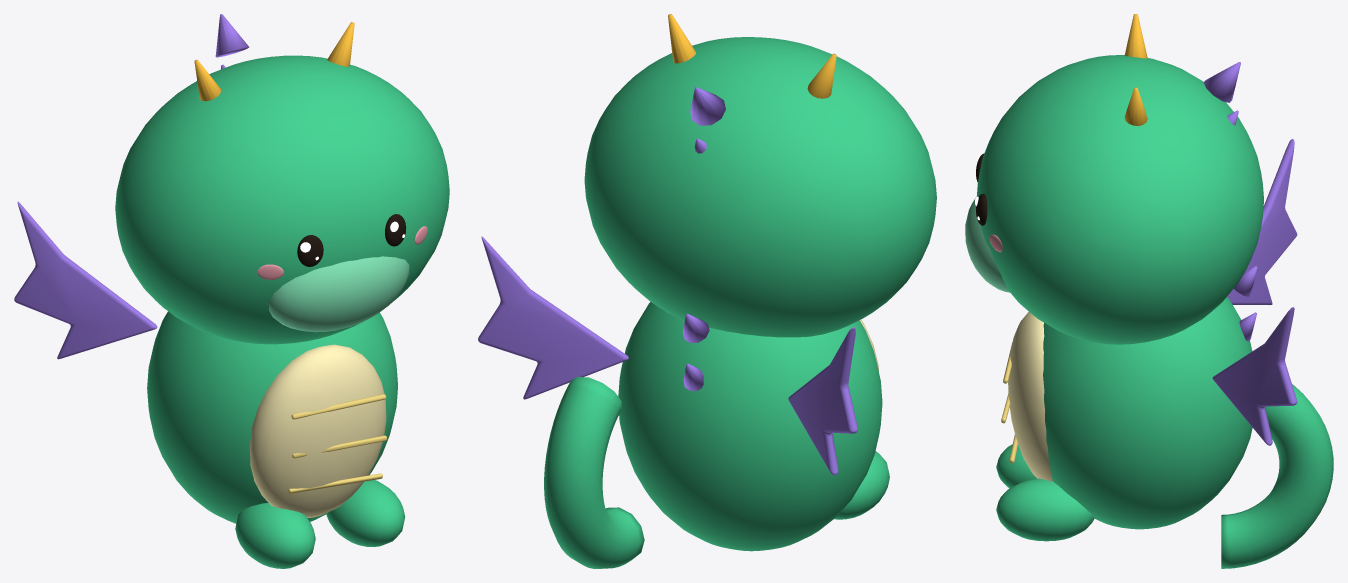
File: p-dragon.glb
The picture shows the model from 3 angles, left to right: view 1: azimuth 30°, elevation 25°; view 2: azimuth 150°, elevation 25°; view 3: azimuth 270°, elevation 25°; orthographic projection. The views are drawn at different scales.
Parts seen in each view (by area): view 1: p-dragon, ear-R, blink-R, blink-L; view 2: p-dragon, wag, ear-L, ear-R; view 3: p-dragon, wag, ear-L, ear-R.
Boxes of the visible parts, <box> form: p-dragon: <box>115,14,449,568</box>; ear-R: <box>14,201,157,359</box>; blink-R: <box>297,235,323,266</box>; blink-L: <box>385,214,406,246</box>; p-dragon: <box>584,14,936,551</box>; wag: <box>544,376,644,568</box>; ear-L: <box>478,236,628,399</box>; ear-R: <box>788,327,857,475</box>; p-dragon: <box>965,14,1263,541</box>; wag: <box>1221,384,1333,568</box>; ear-L: <box>1212,307,1297,445</box>; ear-R: <box>1227,139,1297,305</box>.
Bounding box in the file's own units: 0.2085 × 0.27 × 0.1892.
